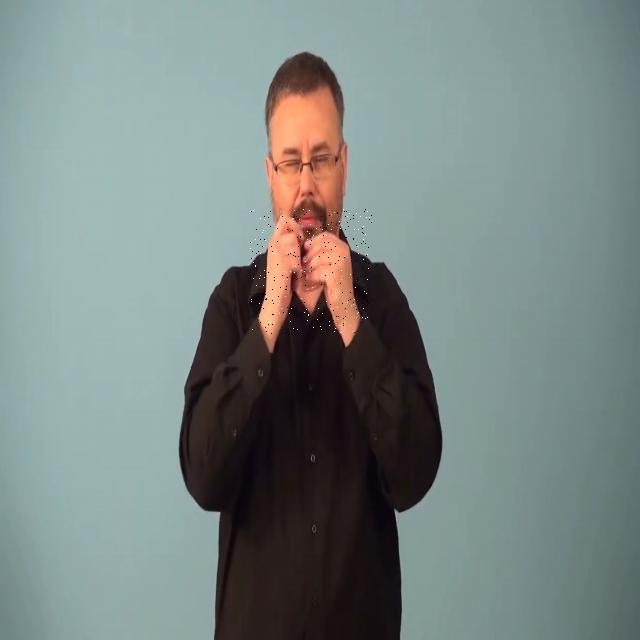juicy: (250, 208, 372, 334)
